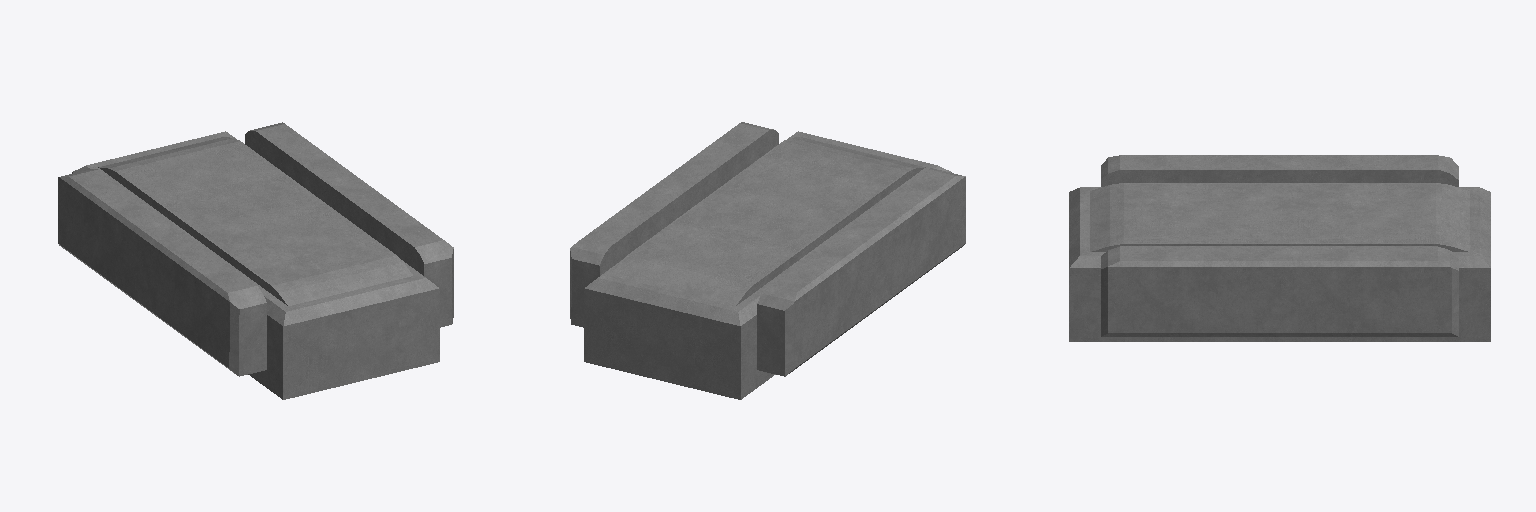
The picture shows the model from 3 angles: view 1: azimuth 30°, elevation 25°; view 2: azimuth 150°, elevation 25°; view 3: azimuth 270°, elevation 25°; orthographic projection.
Parts seen in each view (by area): view 1: baza_Curtain_Wall_CAMP_-_Metal_Column_Silver; view 2: baza_Curtain_Wall_CAMP_-_Metal_Column_Silver; view 3: baza_Curtain_Wall_CAMP_-_Metal_Column_Silver.
Boxes of the visible parts, box(x1,y1,x2,y2) form: baza_Curtain_Wall_CAMP_-_Metal_Column_Silver: box(58, 122, 453, 399); baza_Curtain_Wall_CAMP_-_Metal_Column_Silver: box(570, 122, 965, 399); baza_Curtain_Wall_CAMP_-_Metal_Column_Silver: box(1069, 155, 1490, 341).
Bounding box in the file's own units: 1.43 × 0.5826 × 2.32.
Materials: 1 (1 with a texture image).